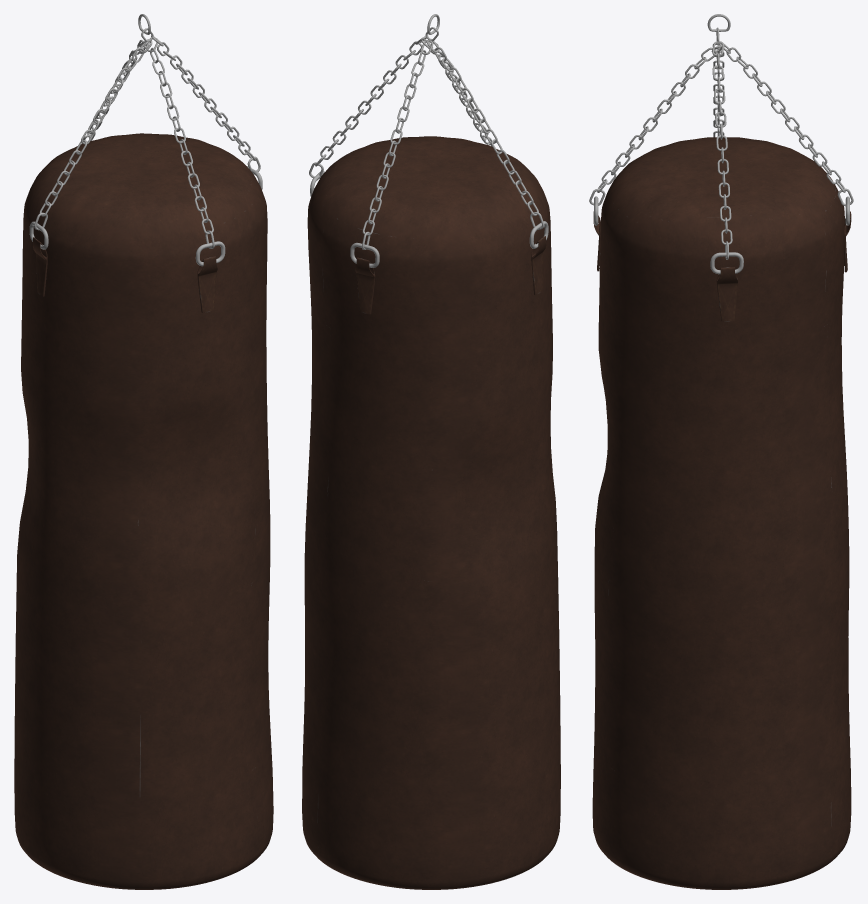
The model's file is punchingbag chainclean stitches.fbx.
3 views of the same model, side by side, from view 1: azimuth 30°, elevation 25°; view 2: azimuth 150°, elevation 25°; view 3: azimuth 270°, elevation 25° (orthographic).
Visible parts, largest first — view 1: polySurface138, polySurface87, pasted__polySurface117, polySurface84, polySurface142, polySurface141; view 2: polySurface138, pasted__polySurface116, pasted__polySurface117, polySurface84, polySurface140, polySurface87, polySurface141; view 3: polySurface138, polySurface87, pasted__polySurface116, polySurface84, polySurface137.
Part boxes in pixels (bbox=[...]): polySurface138: bbox=[14, 133, 273, 889]; polySurface87: bbox=[141, 28, 214, 248]; pasted__polySurface117: bbox=[34, 39, 152, 230]; polySurface84: bbox=[151, 35, 260, 171]; polySurface142: bbox=[197, 256, 217, 312]; polySurface141: bbox=[33, 237, 47, 296]; polySurface138: bbox=[302, 136, 560, 889]; pasted__polySurface116: bbox=[362, 40, 433, 249]; pasted__polySurface117: bbox=[426, 38, 544, 229]; polySurface84: bbox=[309, 36, 428, 178]; polySurface140: bbox=[355, 257, 375, 314]; polySurface87: bbox=[421, 27, 492, 146]; polySurface141: bbox=[531, 236, 546, 294]; polySurface138: bbox=[592, 137, 851, 889]; polySurface87: bbox=[589, 27, 724, 205]; pasted__polySurface116: bbox=[719, 41, 853, 206]; polySurface84: bbox=[712, 41, 732, 259]; polySurface137: bbox=[716, 267, 738, 321].
Size of the model in its own units: 2.15 by 7.33 by 2.13.
Materials: 2 (1 with a texture image).
